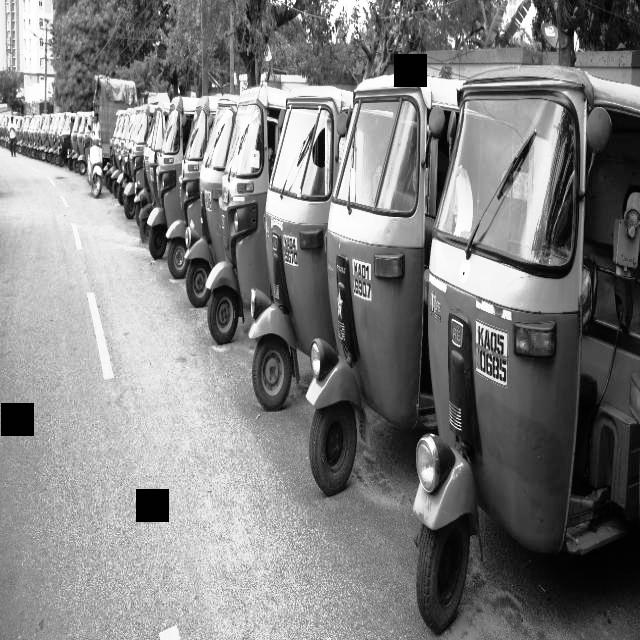Auto-Rickshaw: (416, 63, 640, 633), (311, 60, 445, 495), (248, 76, 360, 408), (211, 77, 276, 336), (182, 104, 230, 310), (145, 83, 193, 267), (99, 102, 143, 217), (21, 112, 68, 165), (69, 112, 91, 176)
